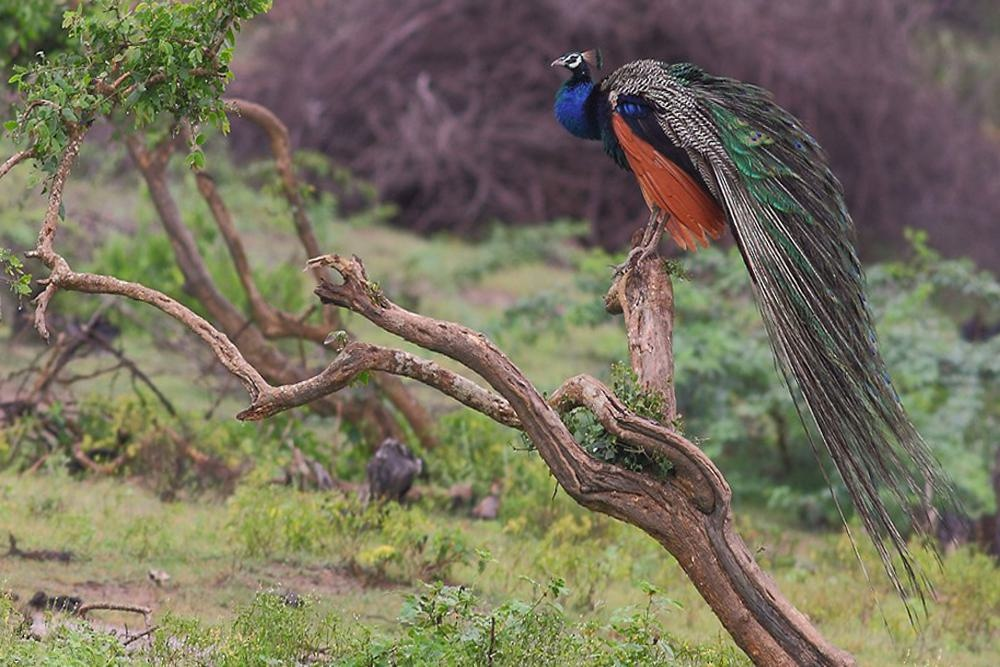peacock: (534, 38, 938, 499)
